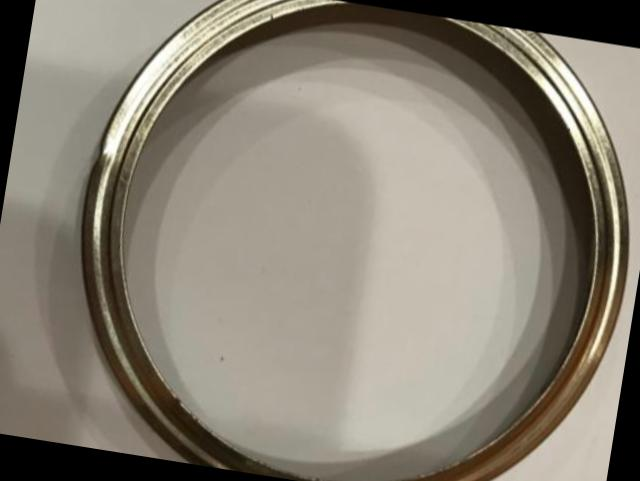metal: (84, 0, 628, 481)
